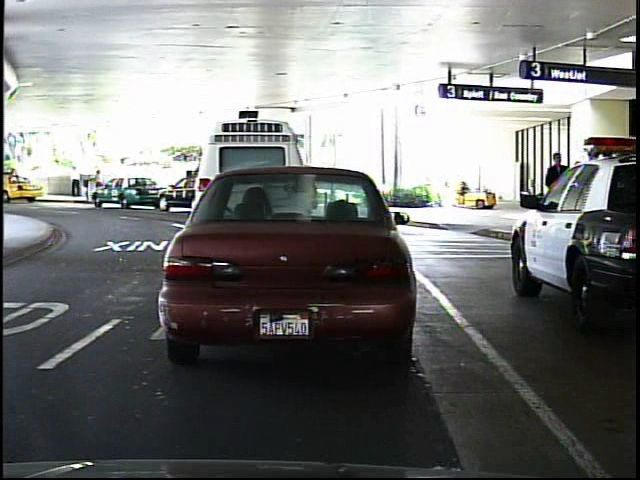person: (542, 148, 573, 235), (88, 164, 107, 198), (71, 161, 85, 200)
